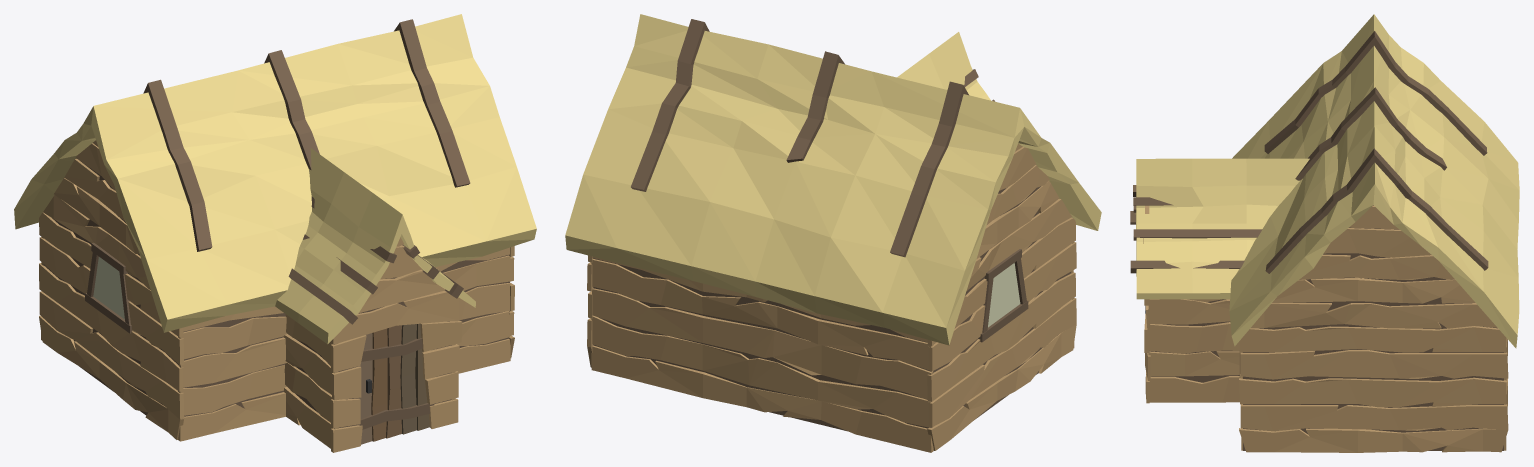
File: Hut_2.fbx
3 views of the same model, side by side, from view 1: azimuth 30°, elevation 25°; view 2: azimuth 150°, elevation 25°; view 3: azimuth 270°, elevation 25° (orthographic). The views are drawn at different scales.
Visible parts, largest first — view 1: Hut_2; view 2: Hut_2; view 3: Hut_2.
Boxes of the visible parts, x1,y1,x2,y2 form: Hut_2: (14,14,536,452); Hut_2: (565,14,1101,452); Hut_2: (1130,14,1519,452).
Size of the model in its own units: 575 by 437 by 543.
Materials: 1 (1 with a texture image).
